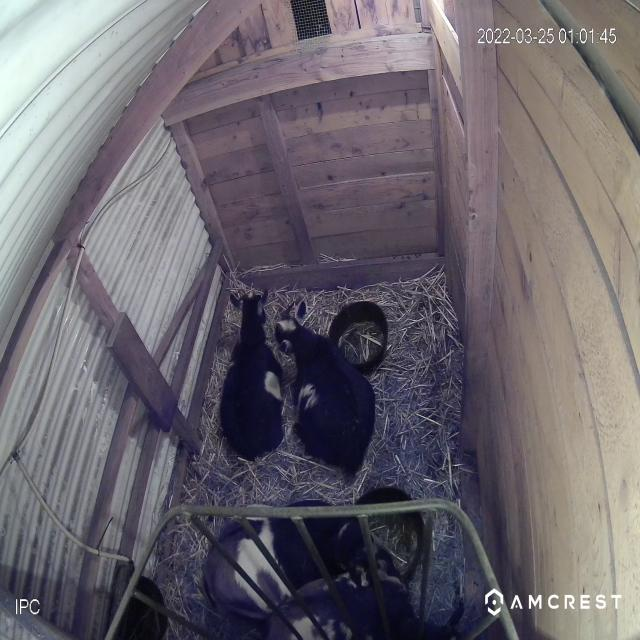goat: (268, 284, 376, 482), (196, 510, 383, 600), (266, 550, 408, 640), (226, 283, 286, 459)
